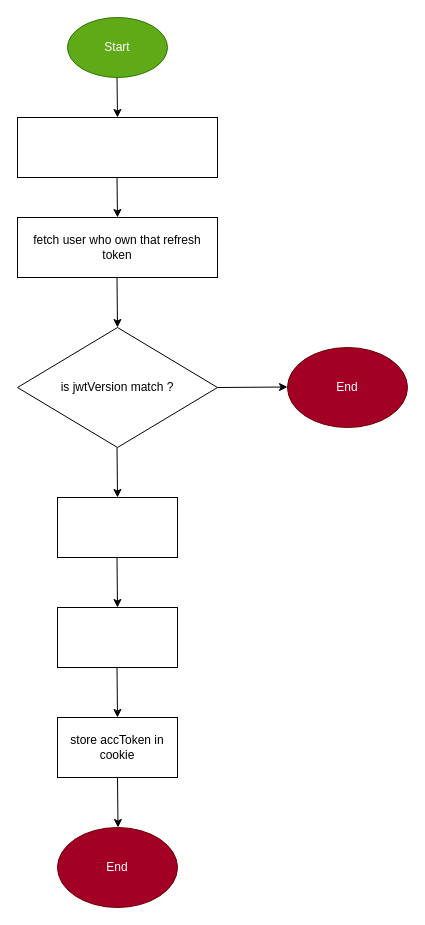
The diagram is 425 pixels wide and 925 high, and some of its shapes have lost their labels. The box of each missing label's shape, as (x1, y1, x2, y2) in pixels:
create new accToken and ref token: (56, 496, 178, 558)
get user old refresh token from redis: (16, 116, 218, 178)
store ref token in redis: (56, 606, 178, 668)
